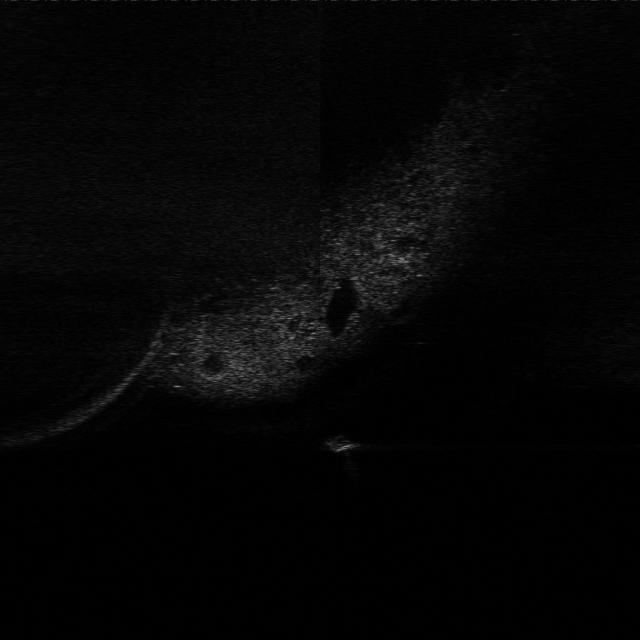cube: (324, 430, 364, 457)
